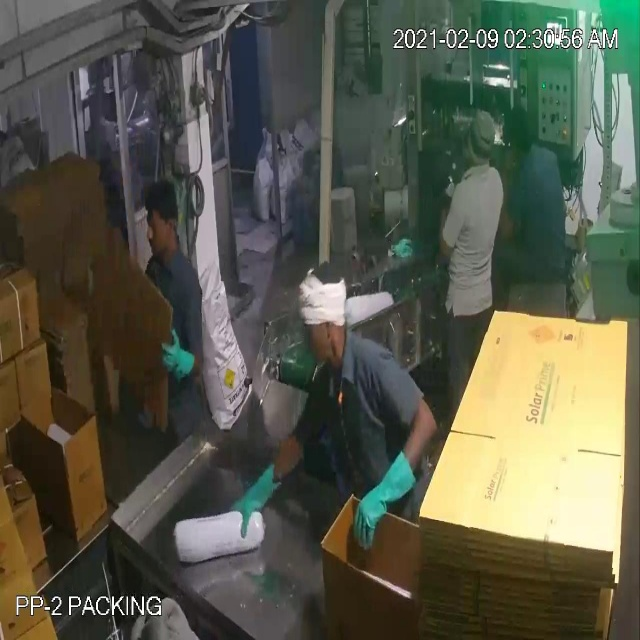Guantes: (347, 439, 422, 562), (225, 453, 286, 542), (158, 322, 204, 397)
